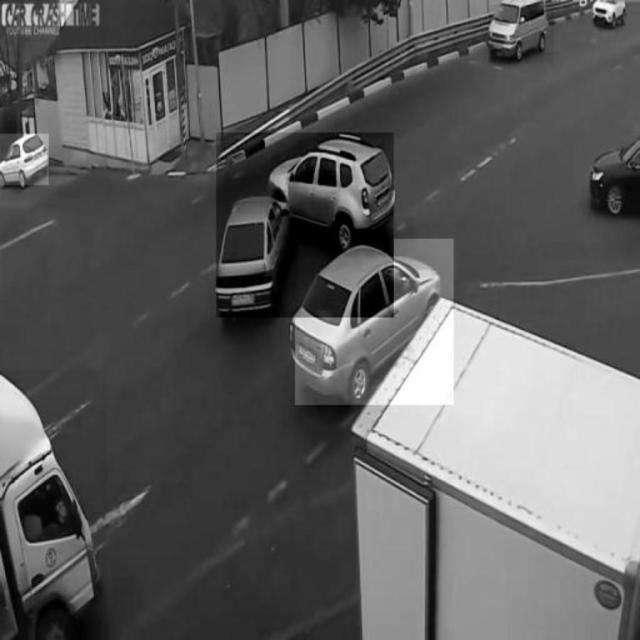accident: (217, 132, 394, 317)
vehicle: (0, 370, 108, 640), (295, 239, 453, 405), (490, 5, 554, 63), (0, 134, 48, 185)
